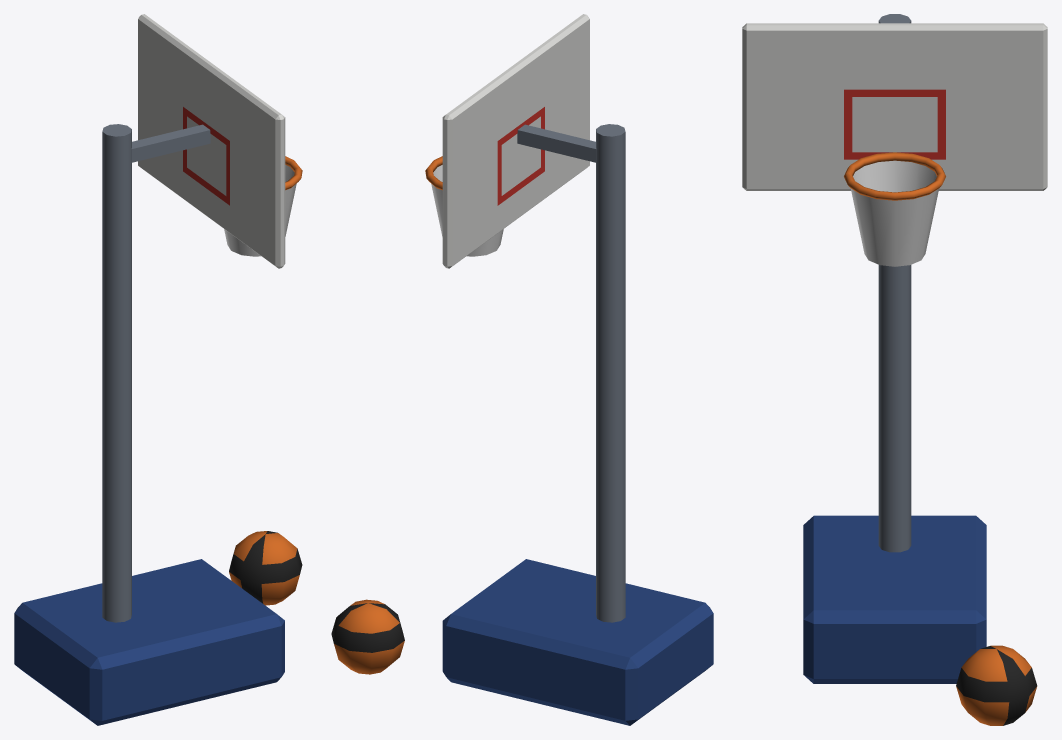
File: school-deco2.glb
3 renders of one model, left to right at view 1: azimuth 30°, elevation 25°; view 2: azimuth 150°, elevation 25°; view 3: azimuth 270°, elevation 25°, orthographic. The views are drawn at different scales.
Parts seen in each view (by area): view 1: school-deco2; view 2: school-deco2; view 3: school-deco2.
Part boxes in pixels (x1,y1,x2,y2): school-deco2: [14, 14, 302, 725]; school-deco2: [331, 14, 713, 725]; school-deco2: [742, 14, 1047, 725].
Bounding box in the file's own units: 1.79 × 3.5 × 1.5.
